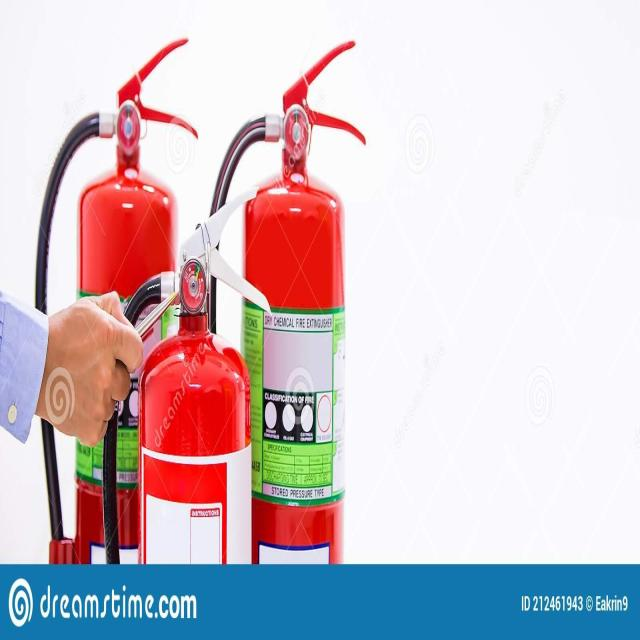fire_extinguisher: (28, 30, 202, 558), (198, 32, 368, 568), (96, 180, 275, 565)
